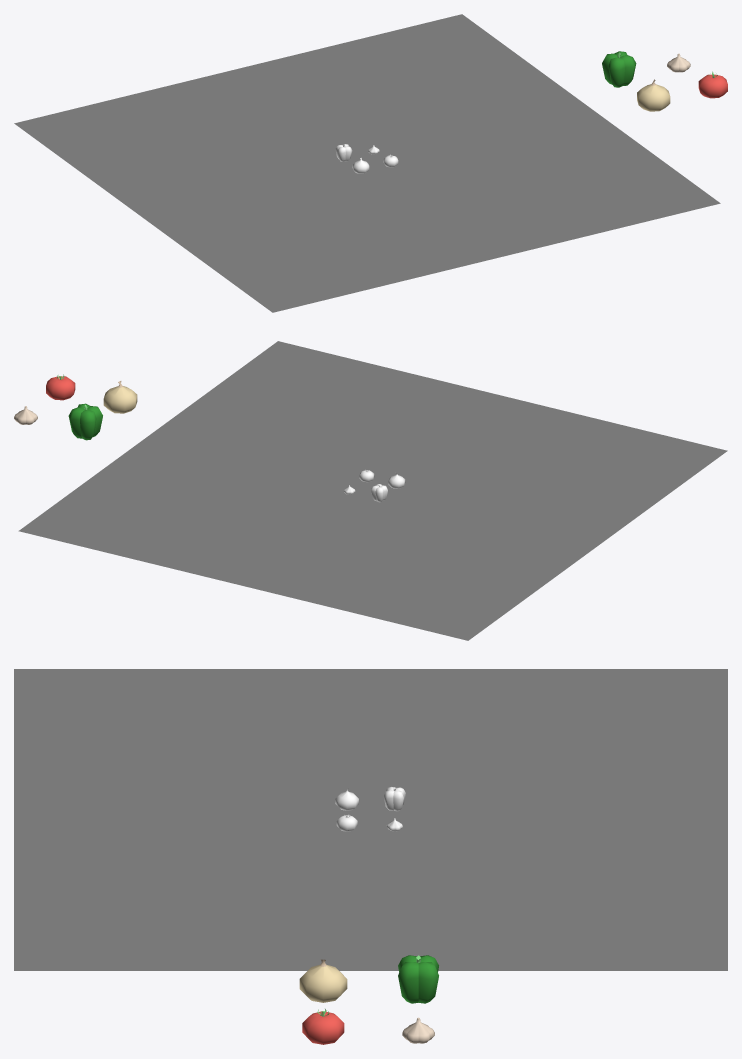
Rendered from food_pack_cooking.fbx.
The picture shows the model from 3 angles, top to bottom: view 1: azimuth 30°, elevation 25°; view 2: azimuth 150°, elevation 25°; view 3: azimuth 270°, elevation 25°; orthographic projection. The views are drawn at different scales.
Parts seen in each view (by area): view 1: Plane, BellPepper.001, Onion.001, Tomato.001; view 2: Plane, BellPepper.001, Onion.001, Tomato.001; view 3: Plane, BellPepper.001, Onion.001, Tomato.001.
Boxes of the visible parts, left/top/right/bottom form: Plane: left=14, top=14, right=720, bottom=312; BellPepper.001: left=602, top=51, right=636, bottom=87; Onion.001: left=637, top=79, right=670, bottom=111; Tomato.001: left=698, top=71, right=727, bottom=98; Plane: left=18, top=341, right=727, bottom=640; BellPepper.001: left=68, top=403, right=102, bottom=440; Onion.001: left=103, top=381, right=137, bottom=413; Tomato.001: left=46, top=374, right=75, bottom=400; Plane: left=14, top=669, right=727, bottom=970; BellPepper.001: left=398, top=955, right=438, bottom=1003; Onion.001: left=299, top=959, right=347, bottom=1002; Tomato.001: left=302, top=1009, right=344, bottom=1044.
Size of the model in its own units: 3788 by 212 by 3000.
